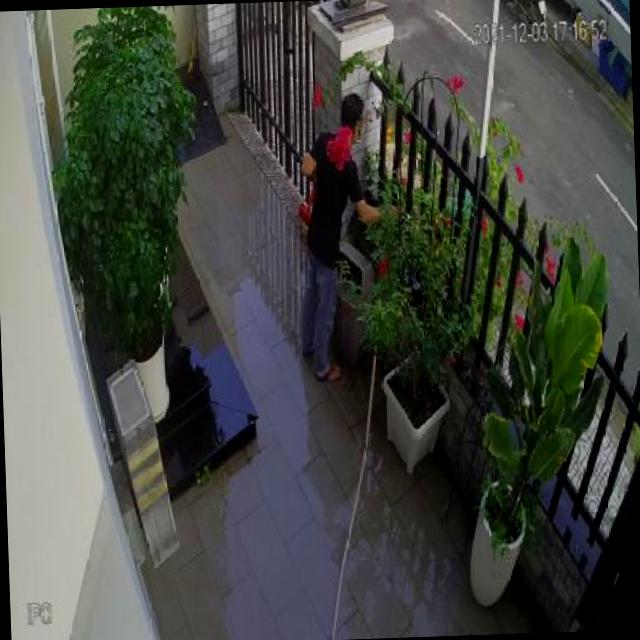Person: (290, 90, 399, 383)
